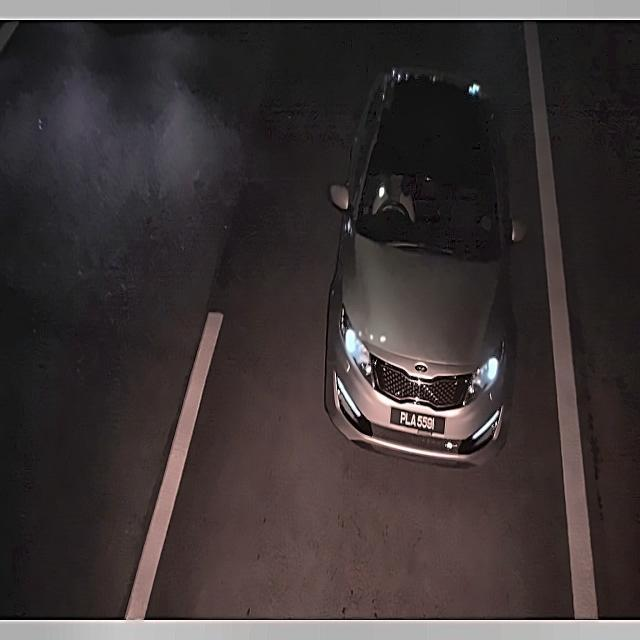car: (388, 397, 448, 444)
